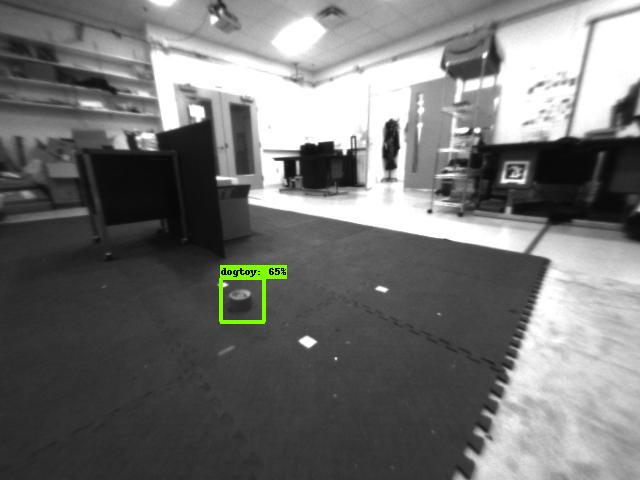dogtoy: (215, 275, 265, 327)
